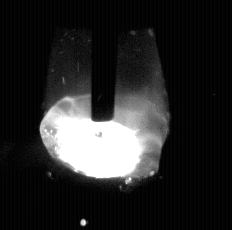arame: (91, 0, 116, 122)
poca: (39, 0, 171, 230)
